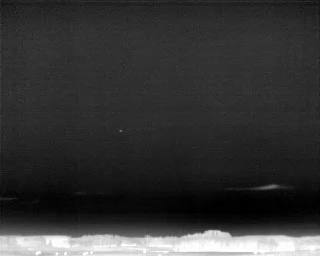BIRD: (117, 127, 124, 134)
